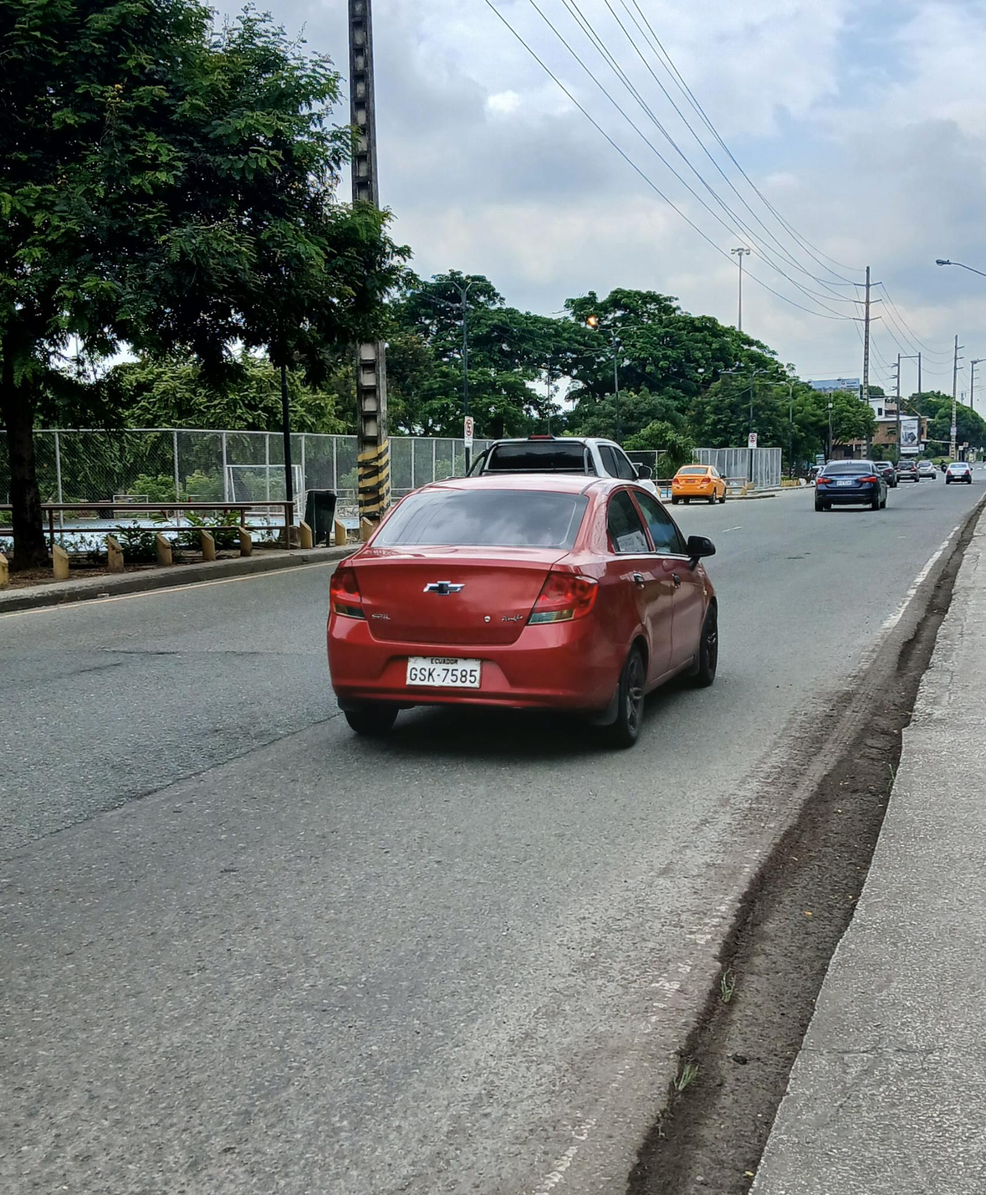license_plate: (405, 656, 481, 688), (836, 480, 852, 485)
